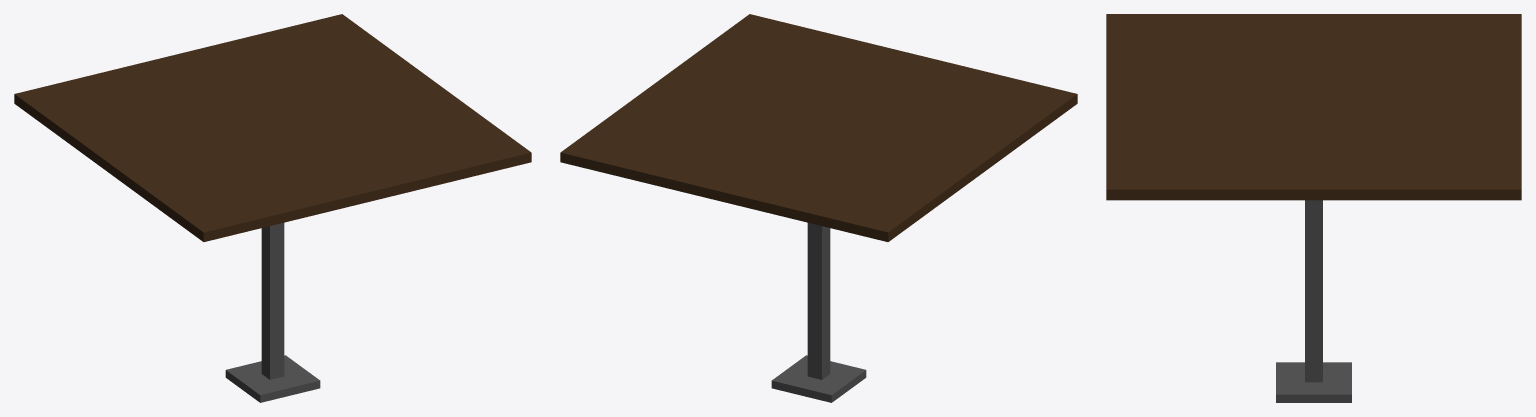
Rendered from SquareTable.fbx.
The picture shows the model from 3 angles, left to right: view 1: azimuth 30°, elevation 25°; view 2: azimuth 150°, elevation 25°; view 3: azimuth 270°, elevation 25°; orthographic projection. The views are drawn at different scales.
Parts seen in each view (by area): view 1: SquareTable; view 2: SquareTable; view 3: SquareTable.
Boxes of the visible parts, box(x1,y1,x2,y2) form: SquareTable: box(14, 14, 531, 402); SquareTable: box(560, 14, 1077, 402); SquareTable: box(1106, 14, 1521, 402).
Bounding box in the file's own units: 68.11 × 51.56 × 68.11.
